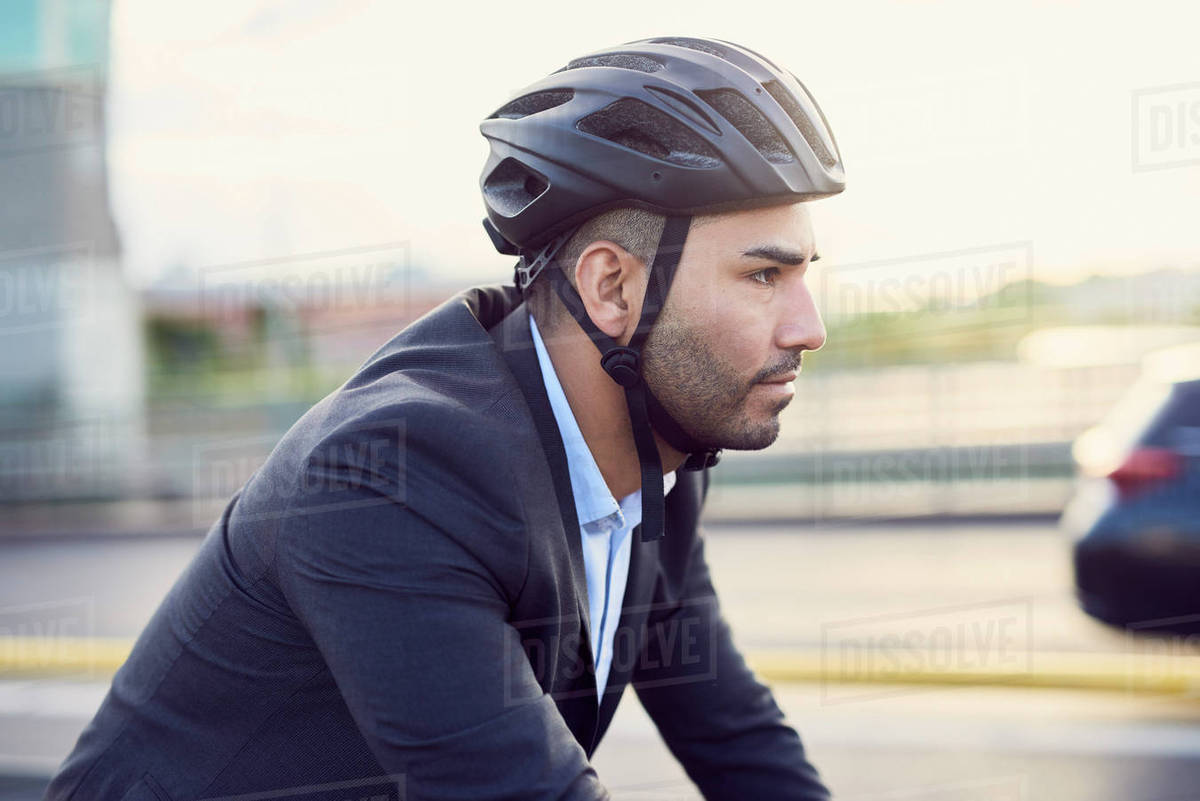helmet: (479, 36, 849, 451)
